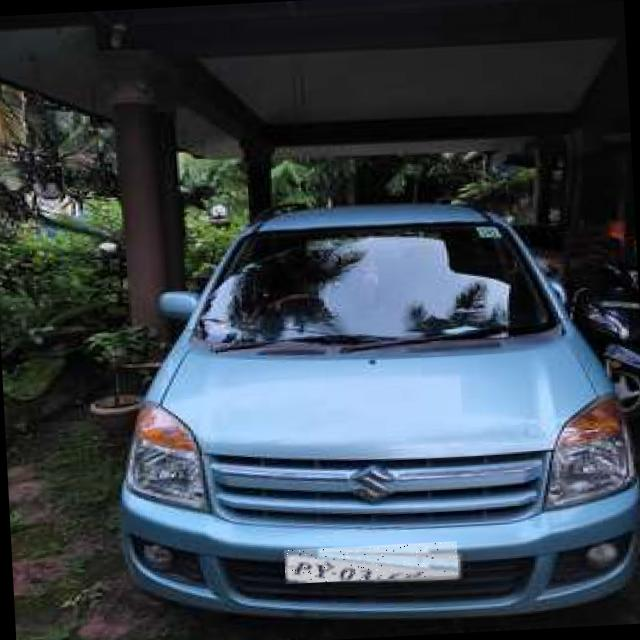Plate: (285, 543, 460, 586)
